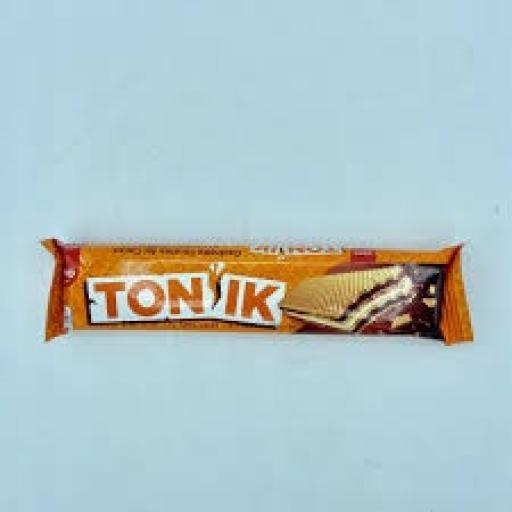tonik: (53, 187, 493, 428)
